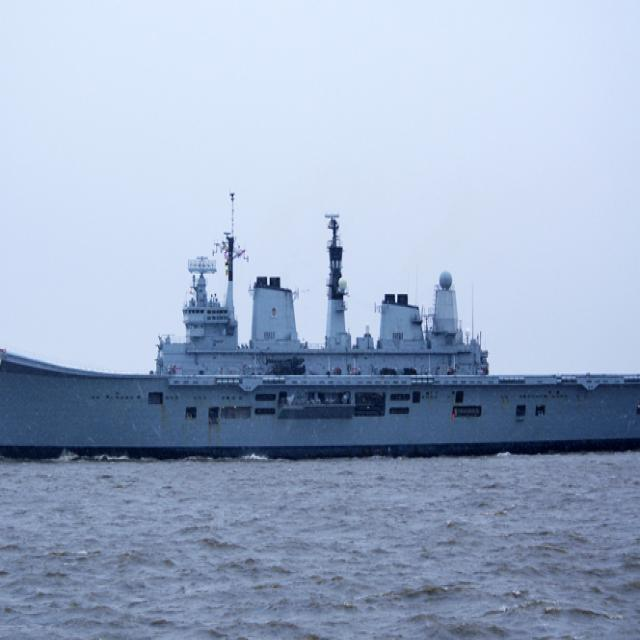Portanaves: (1, 188, 640, 466)
